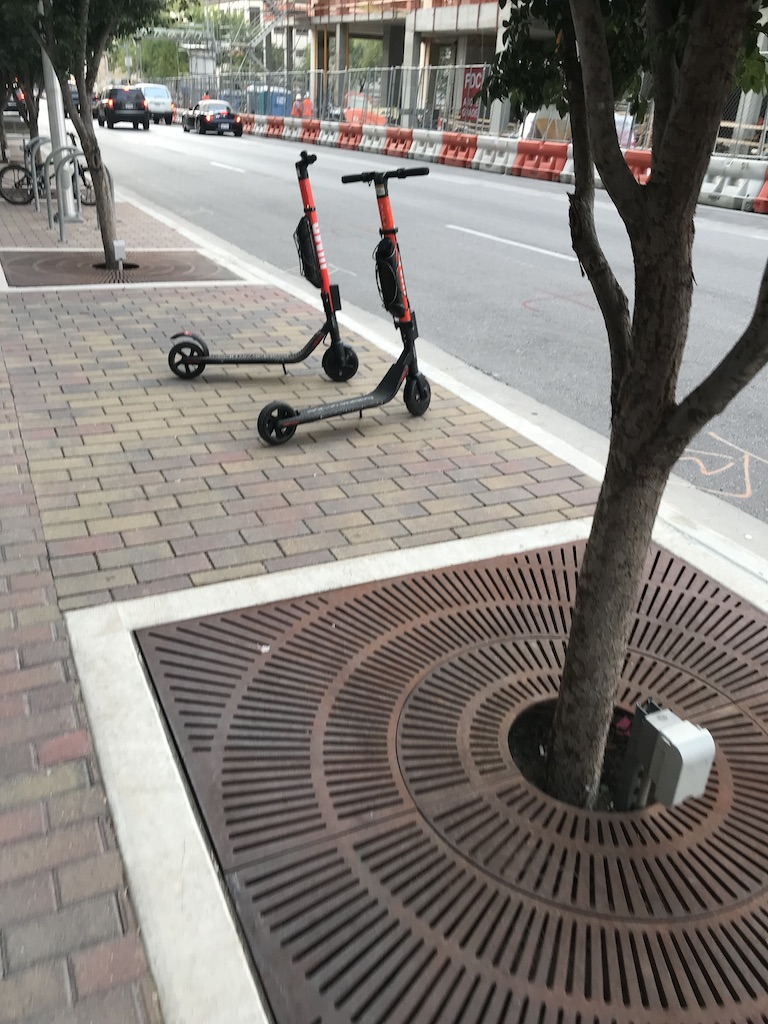scooter: (260, 168, 433, 447), (167, 150, 362, 385)
